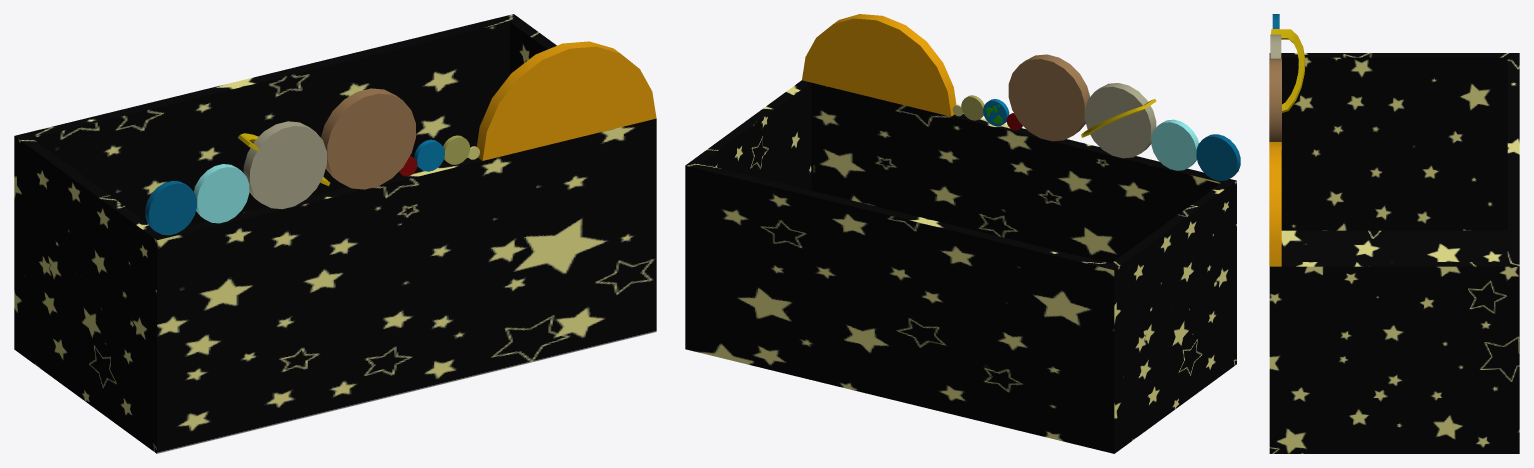
File: ToyBox.fbx
3 renders of one model, left to right at view 1: azimuth 30°, elevation 25°; view 2: azimuth 150°, elevation 25°; view 3: azimuth 270°, elevation 25°, orthographic. The views are drawn at different scales.
Visible parts, largest first — view 1: persp1; view 2: persp1; view 3: persp1.
Part boxes in pixels (x1=…): persp1: x1=14, y1=14, x2=656, y2=453; persp1: x1=685, y1=14, x2=1240, y2=453; persp1: x1=1269, y1=14, x2=1519, y2=453.
Bounding box in the file's own units: 255 × 148 × 125.
